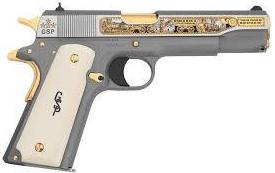gun: (1, 1, 275, 173)
